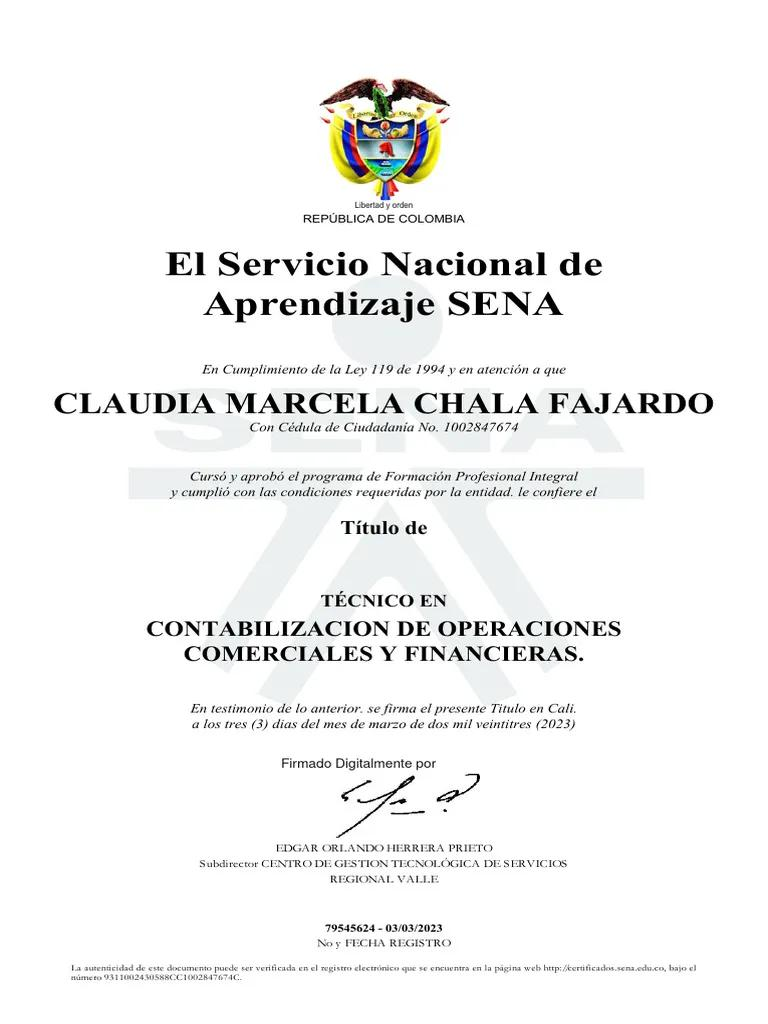certificado: (0, 0, 767, 1022)
escudo de colombia: (285, 58, 468, 210)
firma: (230, 745, 540, 852)
institucion: (135, 232, 622, 330)
nombre: (38, 372, 722, 432)
titulo: (128, 578, 665, 685)
